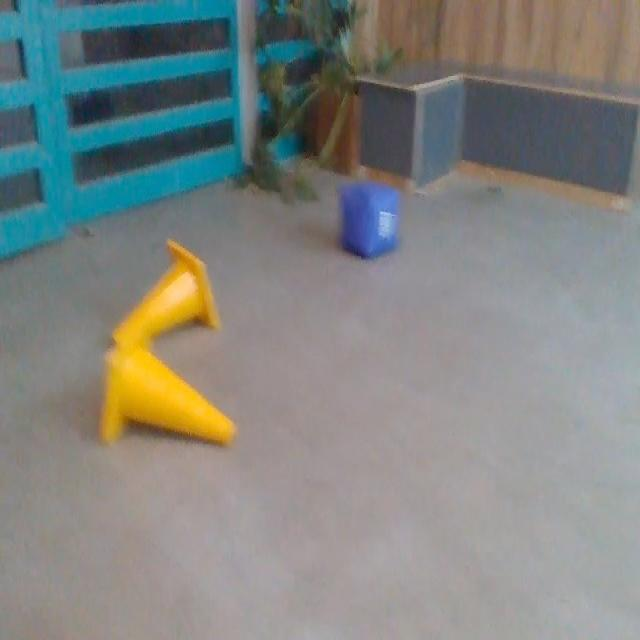cone: (100, 318, 234, 447), (110, 236, 220, 348)
cube: (339, 178, 400, 258)
